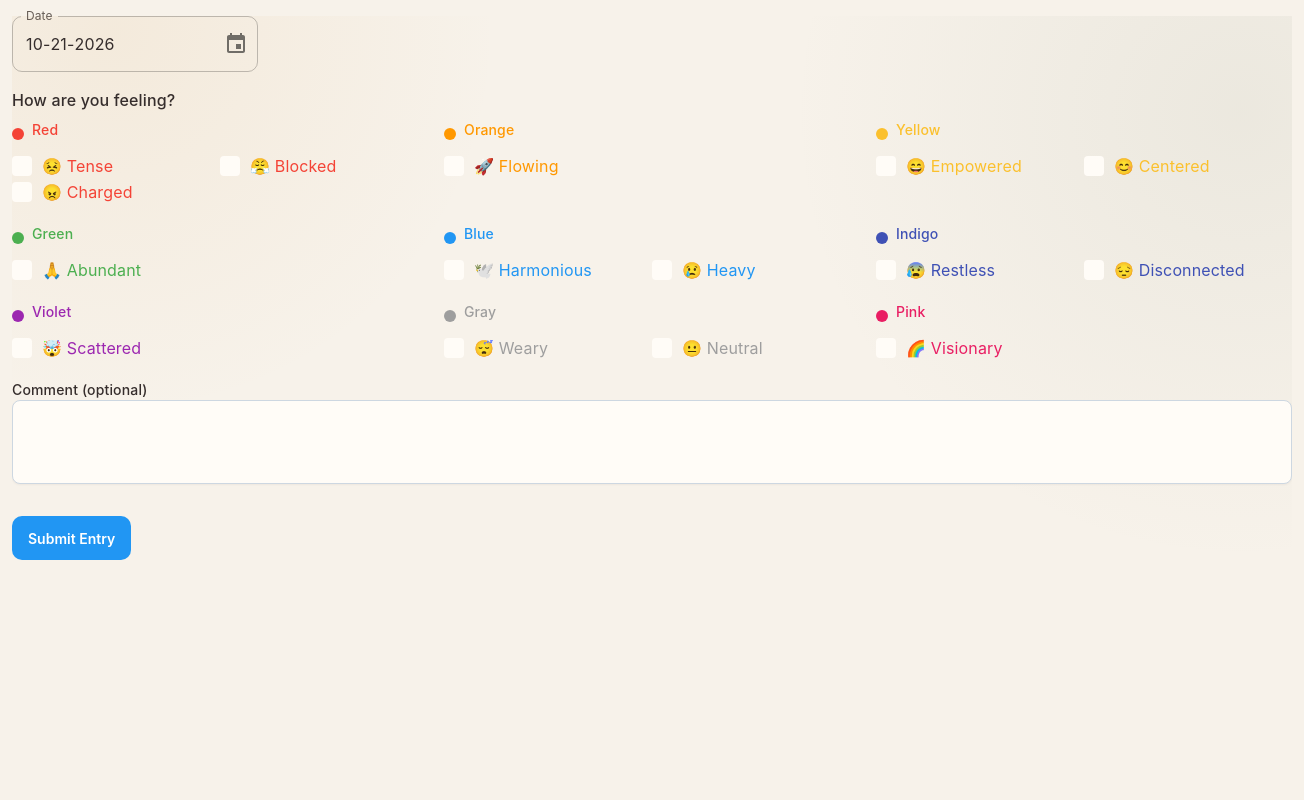
MoodEntryFormFields › shows validation when no mood is selected
Click the button "Submit Entry". click: (72, 538)
box: [12, 516, 131, 560]
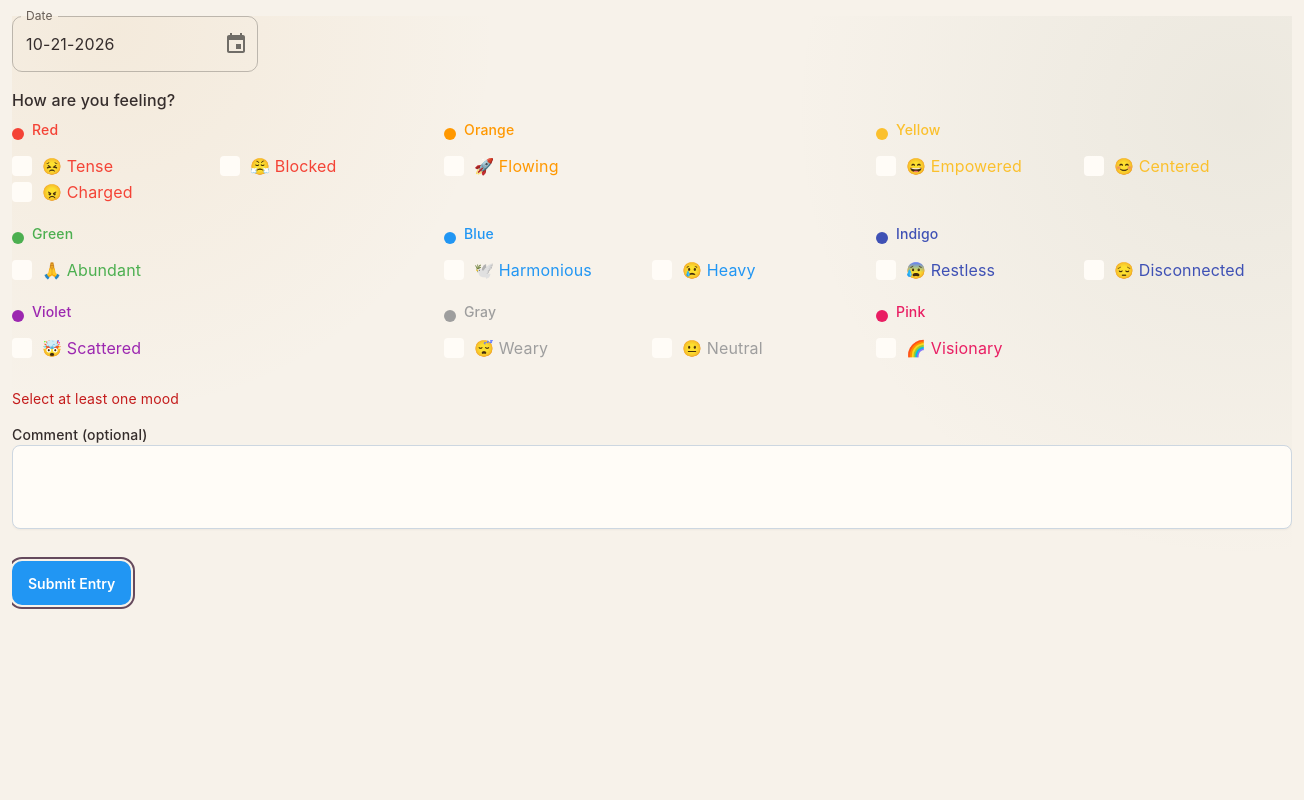
Expected: the text "Select at least one mood" is shown, [12, 390, 179, 407]
